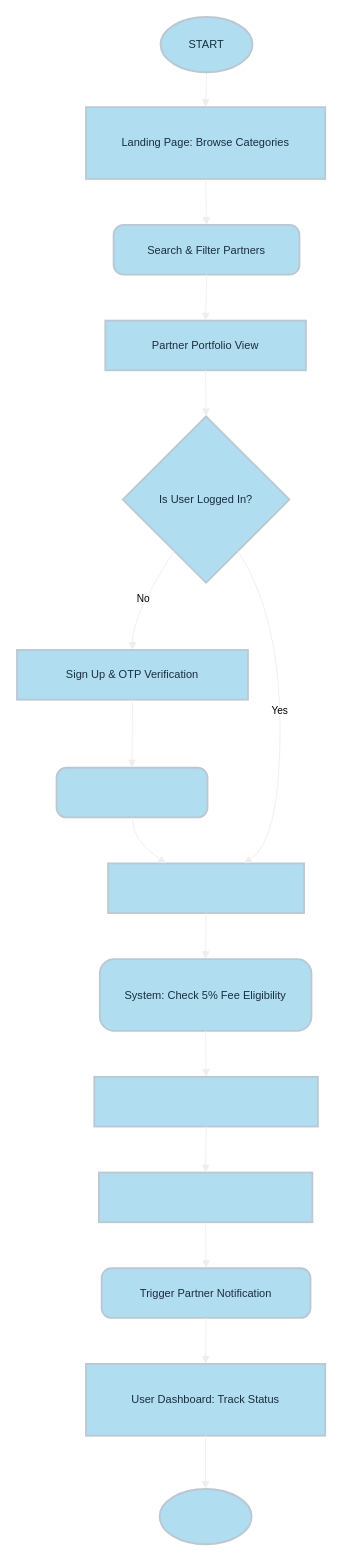
This 341x1560 diagram has some shape labels left out. Each missing label, with the centre of its shape:
Account Activation: the point at 131,792
Address Setup Screen: the point at 206,888
Checkout: Final Summary: the point at 205,1101
Dummy Payment Screen: the point at 205,1197
END: the point at 205,1516
